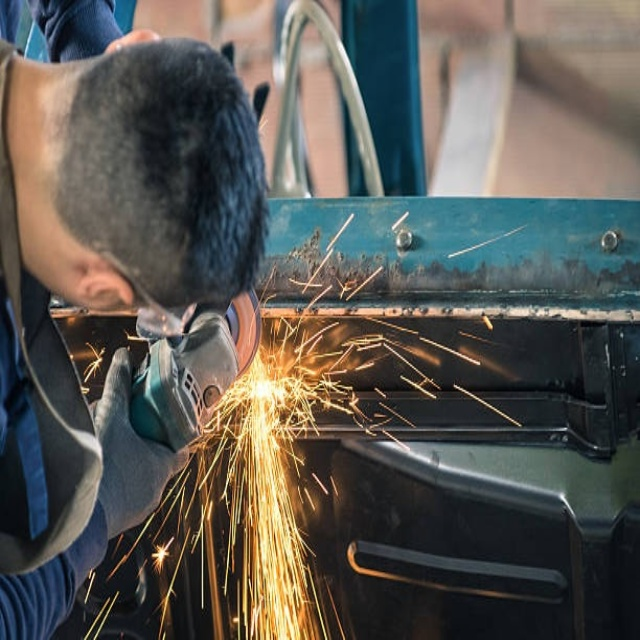Gafas: (99, 244, 199, 341)
Guantes: (88, 346, 193, 543)
Sin_guantes: (110, 29, 162, 54)
